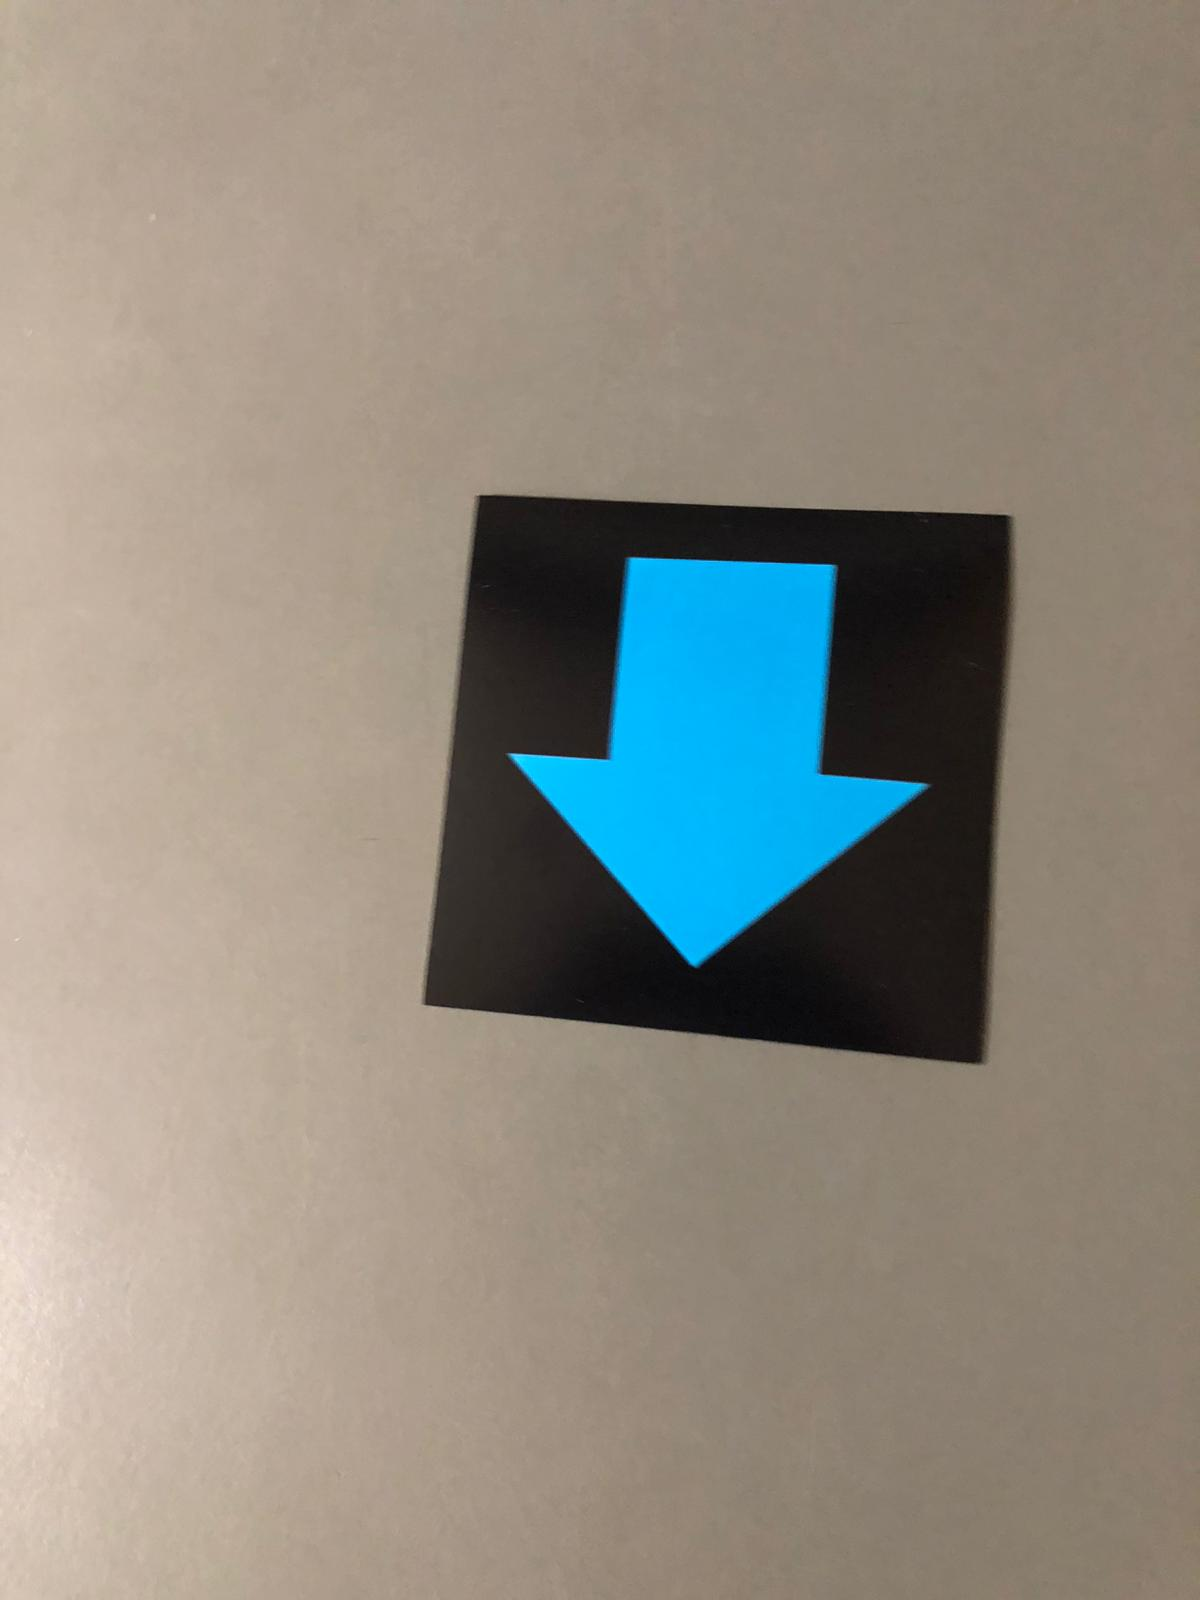Down Arrow: (487, 511, 948, 1039)
